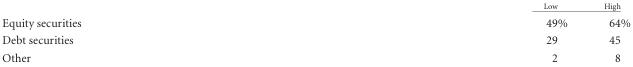table: (1, 1, 629, 63)
table column: (1, 1, 311, 63), (311, 1, 585, 63), (585, 1, 629, 63)
table column header: (1, 1, 629, 12)
table row: (1, 12, 629, 31), (1, 31, 629, 48), (1, 48, 629, 63), (1, 1, 629, 12)
